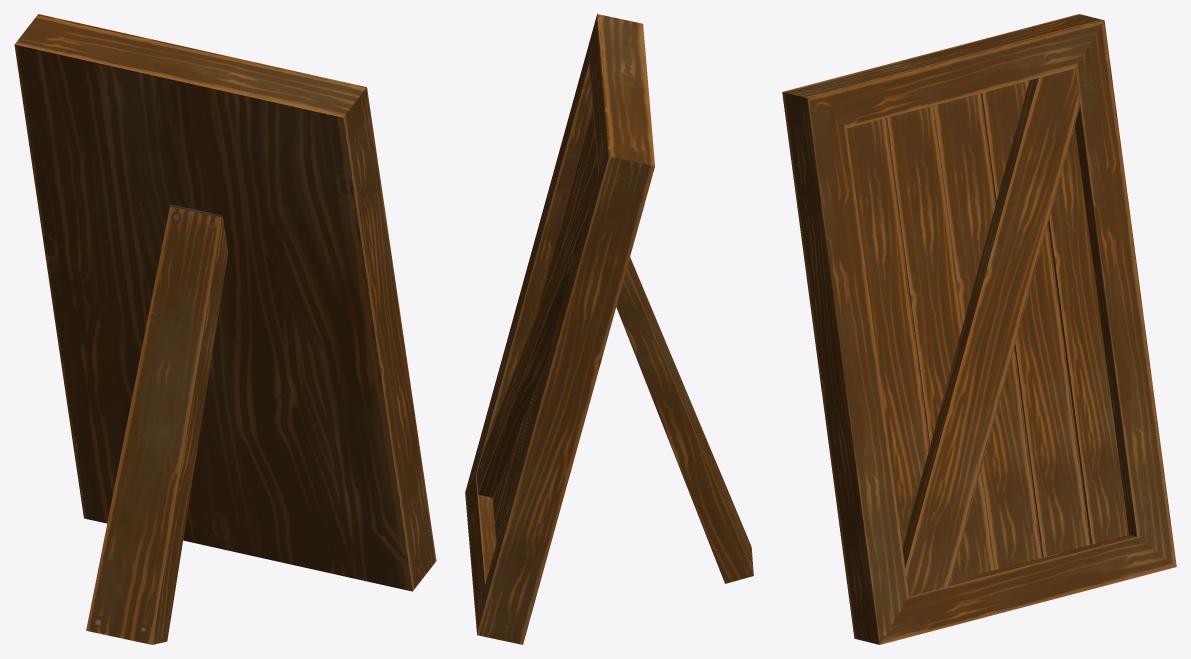
3 renders of one model, left to right at view 1: azimuth 30°, elevation 25°; view 2: azimuth 150°, elevation 25°; view 3: azimuth 270°, elevation 25°, orthographic. The views are drawn at different scales.
Parts seen in each view (by area): view 1: Cube.808; view 2: Cube.808; view 3: Cube.808.
Boxes of the visible parts, box(x1,y1,x2,y2) form: Cube.808: box(14, 14, 436, 644); Cube.808: box(465, 14, 753, 644); Cube.808: box(782, 14, 1176, 644).
Bounding box in the file's own units: 218 × 336 × 236.
1 material, 1 textured.
